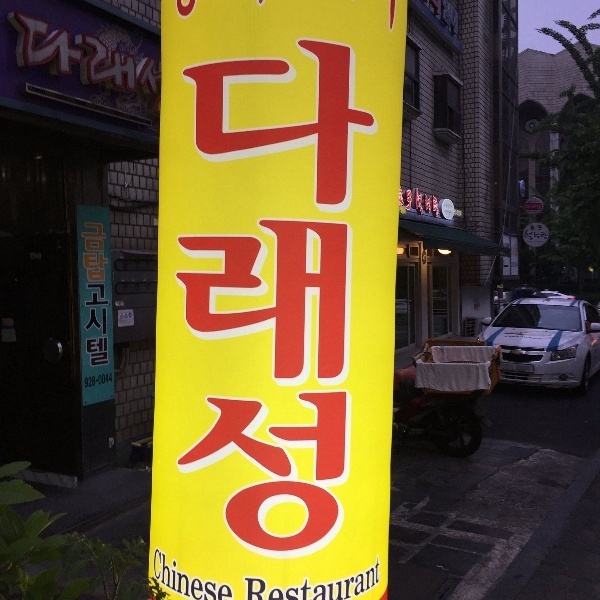text: (193, 29, 208, 561), (209, 29, 224, 561), (225, 29, 240, 561), (241, 29, 256, 561), (257, 29, 272, 561), (273, 29, 288, 561), (289, 29, 304, 561), (305, 29, 320, 561), (321, 29, 336, 561), (337, 29, 352, 561), (353, 29, 368, 561), (181, 29, 192, 561), (369, 29, 377, 561), (33, 9, 48, 94), (49, 9, 64, 94), (65, 9, 80, 94), (81, 9, 96, 94), (97, 9, 112, 94), (113, 9, 128, 94), (18, 9, 32, 94), (97, 283, 110, 368), (81, 220, 96, 283), (85, 283, 96, 368), (147, 54, 160, 116), (129, 9, 138, 94), (97, 220, 109, 283), (161, 550, 176, 599), (177, 550, 192, 599), (353, 558, 368, 600), (193, 550, 205, 599), (369, 558, 382, 600), (417, 186, 432, 218), (449, 1, 459, 37), (257, 578, 272, 600), (273, 578, 288, 600), (289, 578, 304, 600), (305, 578, 320, 600), (321, 578, 336, 600), (154, 550, 160, 599), (345, 558, 352, 600), (209, 581, 224, 600), (449, 27, 460, 51), (245, 578, 256, 600), (406, 189, 416, 213), (433, 186, 440, 218), (2, 330, 16, 343), (99, 372, 112, 385), (84, 375, 96, 388), (337, 578, 344, 600), (225, 581, 233, 600), (444, 1, 448, 37), (531, 223, 544, 233), (433, 1, 441, 17), (401, 186, 406, 210), (118, 317, 128, 327), (529, 204, 542, 211), (3, 319, 16, 326), (513, 335, 528, 341), (529, 335, 544, 341), (454, 209, 464, 217), (445, 27, 448, 51), (503, 242, 512, 249), (161, 54, 162, 116), (513, 246, 518, 258), (129, 317, 134, 327), (423, 255, 432, 260), (529, 240, 544, 243), (529, 200, 540, 204), (521, 188, 528, 194), (505, 335, 512, 341), (523, 181, 528, 189), (206, 581, 208, 600), (423, 260, 432, 264), (415, 186, 416, 218), (513, 262, 518, 268), (529, 210, 539, 213), (449, 209, 453, 216), (423, 252, 432, 255), (444, 203, 448, 209), (449, 203, 453, 209), (445, 209, 448, 216), (475, 307, 480, 311), (431, 1, 432, 17), (526, 204, 528, 211), (511, 246, 512, 258), (511, 262, 512, 268), (526, 240, 528, 243), (97, 379, 98, 383), (545, 240, 546, 243)
